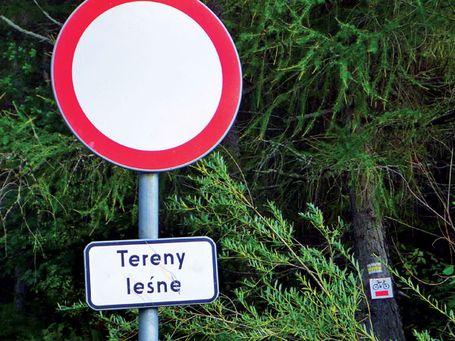no_entry_sign: (51, 1, 243, 171)
